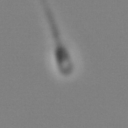normal: (33, 1, 66, 44)
